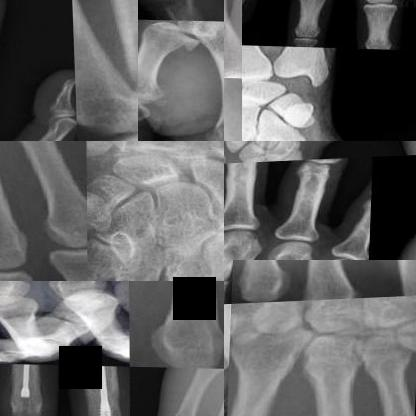fracture: (105, 0, 138, 95), (71, 365, 127, 415), (4, 364, 43, 410), (138, 0, 208, 21), (160, 27, 200, 54), (228, 403, 284, 415), (167, 401, 202, 415)
